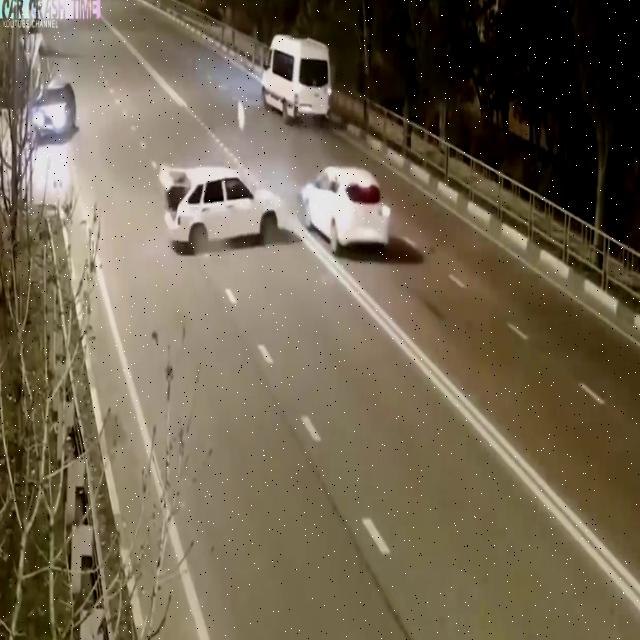accident: (152, 156, 285, 261)
